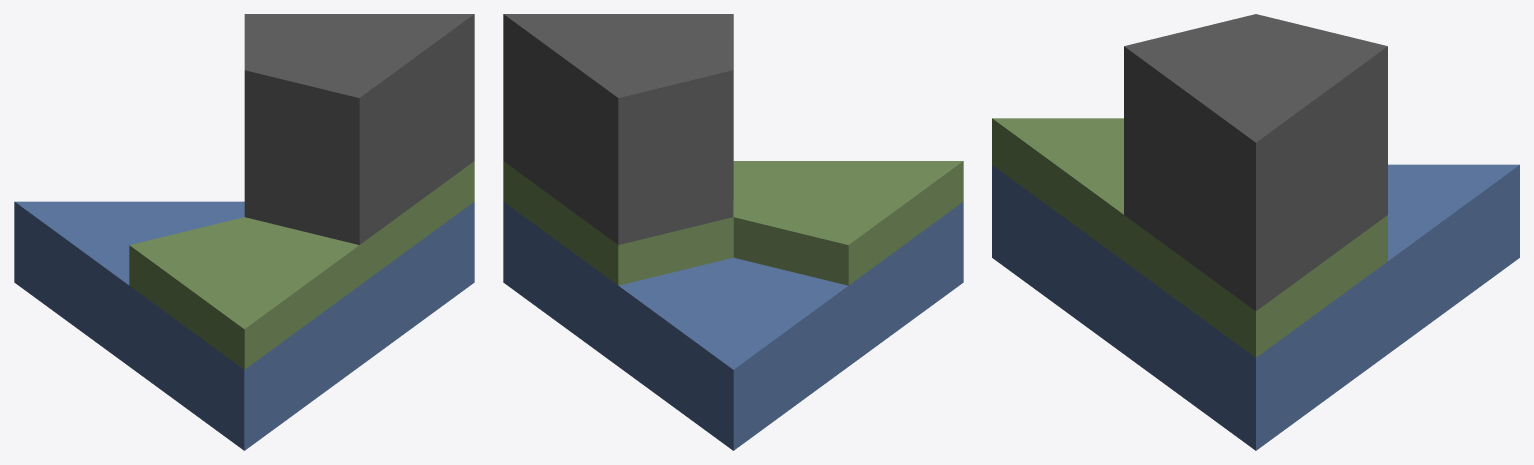
File: tri_4.glb
3 renders of one model, left to right at view 1: azimuth 30°, elevation 25°; view 2: azimuth 150°, elevation 25°; view 3: azimuth 270°, elevation 25°, orthographic. The views are drawn at different scales.
Parts seen in each view (by area): view 1: tri_4; view 2: tri_4; view 3: tri_4.
Part boxes in pixels (bbox=[...]): tri_4: bbox=[14, 14, 474, 450]; tri_4: bbox=[503, 14, 963, 450]; tri_4: bbox=[992, 14, 1519, 450].
Bounding box in the file's own units: 0.7423 × 0.5521 × 0.8571.
